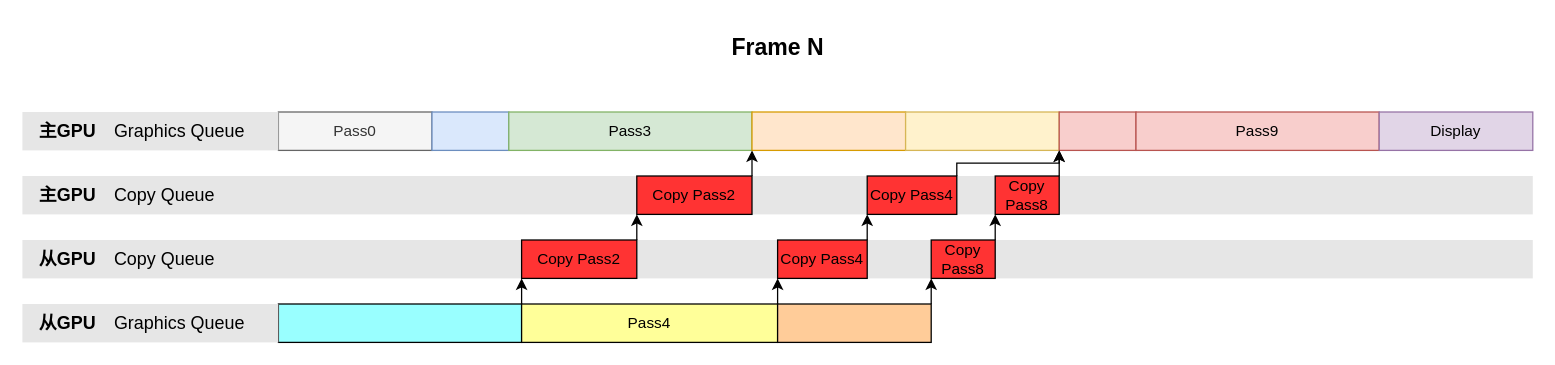
The diagram is 1555 pixels wide and 365 high, and some of its shapes have lost their labels. The shapes that lost their labels are listed below. From the top down, each one's centre as x and y in pixels, then its label:
At point (470, 130): "Pass1".
At point (828, 130): "Pass5".
At point (981, 130): "Pass6".
At point (1097, 130): "Pass7".
At point (399, 322): "Pass2".
At point (853, 322): "Pass8".
